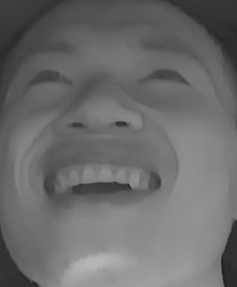eye: (20, 61, 86, 93), (133, 60, 192, 92)
mouth: (30, 142, 173, 217)
